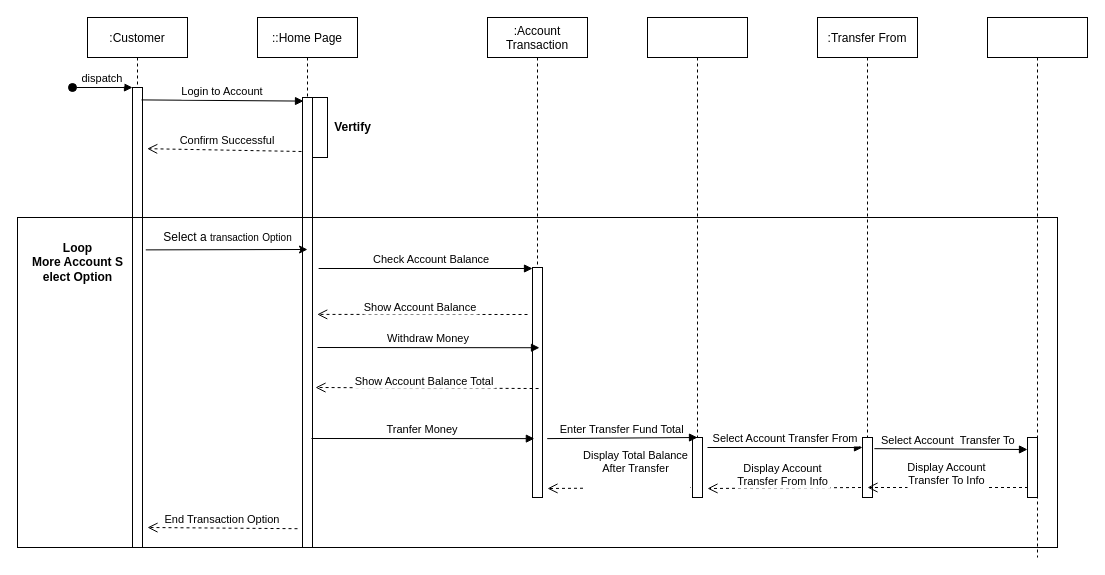
This 1105x575 diagram has some shape labels left out. Each missing label, with the box of its shape:
:Transfer To: (986, 16, 1088, 558)
:Transfer Total Amount: (646, 16, 748, 498)
